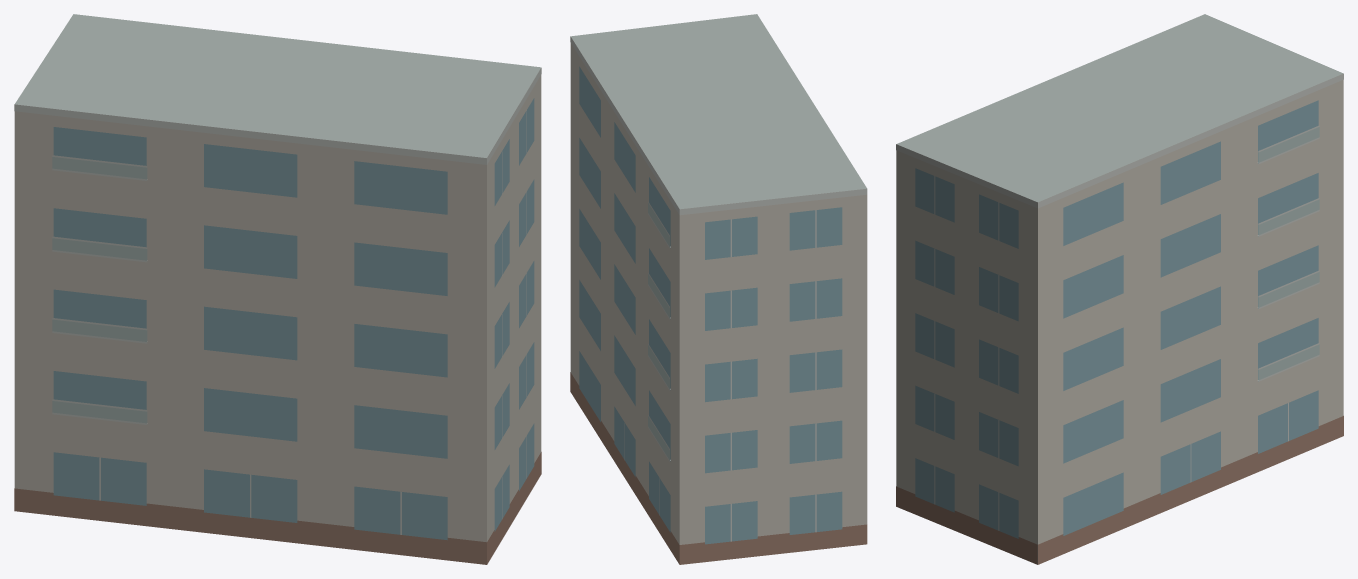
Rendered from survey-upis-32674069.glb.
The picture shows the model from 3 angles, left to right: view 1: azimuth 30°, elevation 25°; view 2: azimuth 150°, elevation 25°; view 3: azimuth 270°, elevation 25°; orthographic projection. The views are drawn at different scales.
Parts seen in each view (by area): view 1: survey-upis-32674069.tmp; view 2: survey-upis-32674069.tmp; view 3: survey-upis-32674069.tmp.
Part boxes in pixels (x1,y1,x2,y2): survey-upis-32674069.tmp: (14, 14, 541, 564); survey-upis-32674069.tmp: (570, 14, 867, 564); survey-upis-32674069.tmp: (896, 14, 1343, 564).
Bounding box in the file's own units: 16.17 × 14.5 × 16.23.
